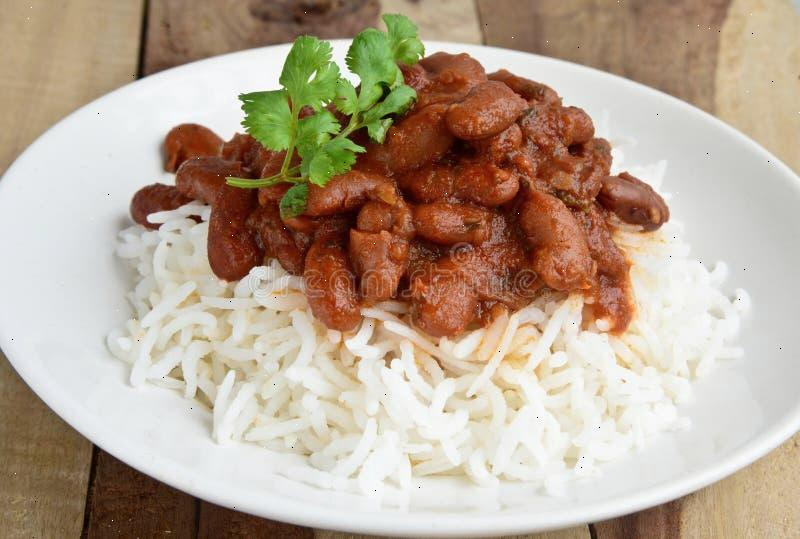rajma: (223, 54, 671, 277)
